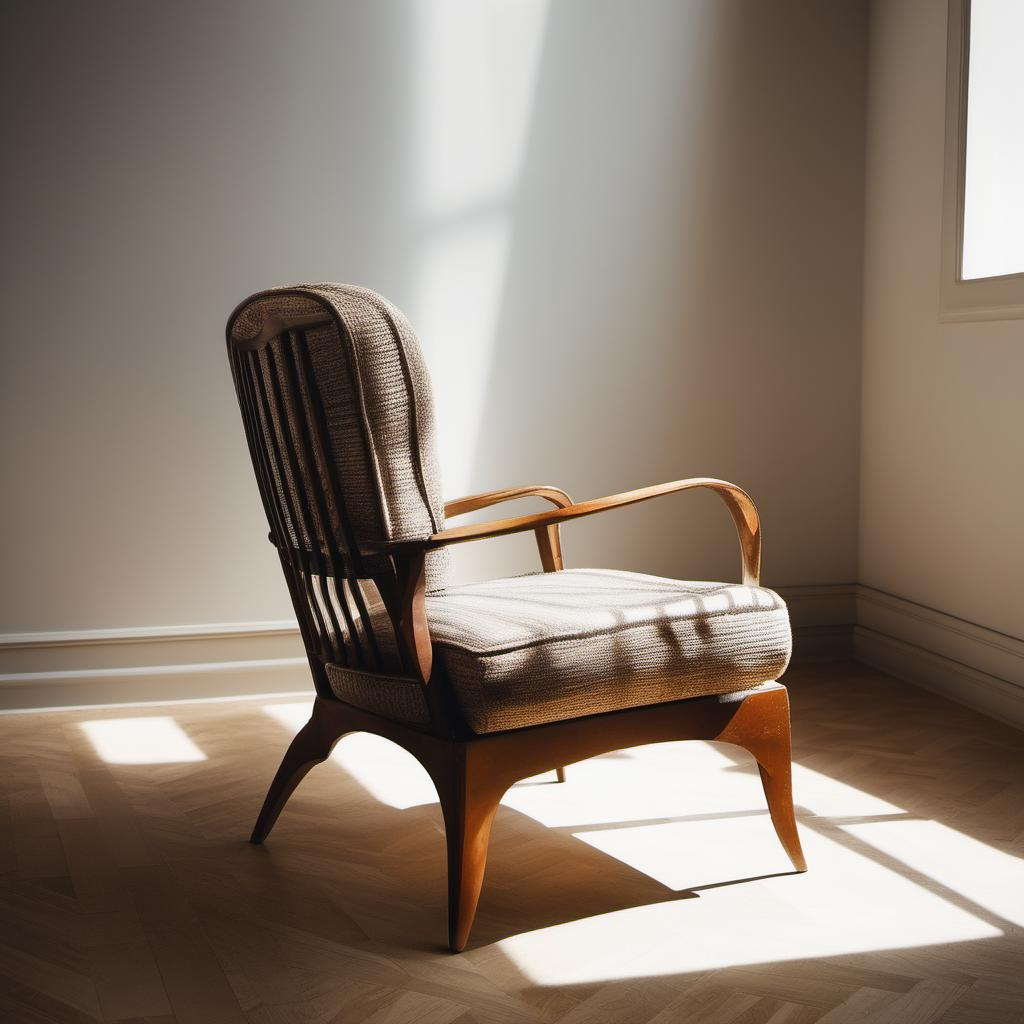chair_new: (224, 273, 813, 949)
